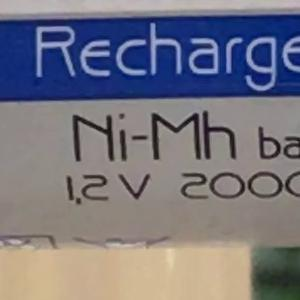NIMH: (63, 71, 267, 172)
